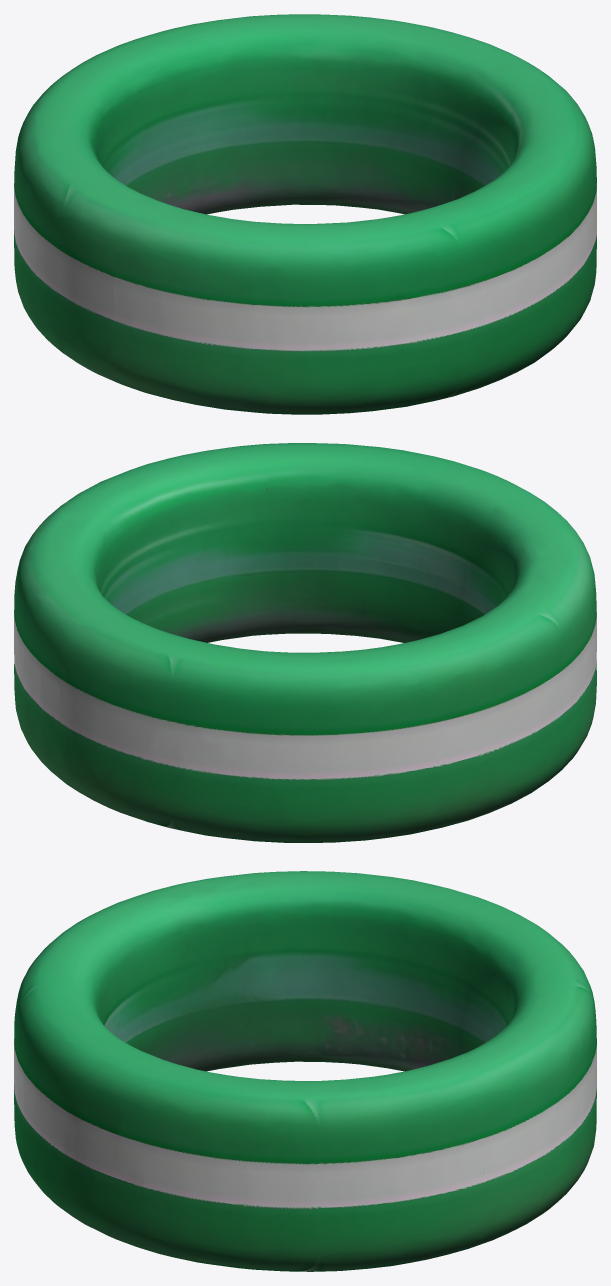
File: cs-headband.glb
3 renders of one model, top to bottom at view 1: azimuth 30°, elevation 25°; view 2: azimuth 150°, elevation 25°; view 3: azimuth 270°, elevation 25°, orthographic.
Visible parts, largest first — view 1: tripo_node_d3e21ff2-ac61-4d40-b102-17cb90e7b0a3; view 2: tripo_node_d3e21ff2-ac61-4d40-b102-17cb90e7b0a3; view 3: tripo_node_d3e21ff2-ac61-4d40-b102-17cb90e7b0a3.
Part boxes in pixels (x1,y1,x2,y2): tripo_node_d3e21ff2-ac61-4d40-b102-17cb90e7b0a3: (14,14,596,414); tripo_node_d3e21ff2-ac61-4d40-b102-17cb90e7b0a3: (14,443,596,842); tripo_node_d3e21ff2-ac61-4d40-b102-17cb90e7b0a3: (14,871,596,1271).
Size of the model in its own units: 1 by 0.3375 by 0.9994.
1 material, 1 textured.
